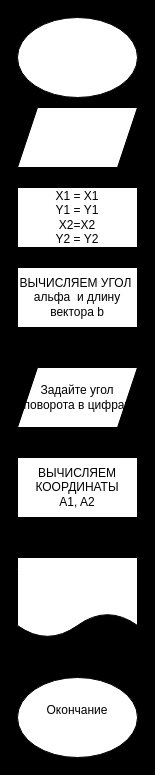
Image size: 155x775. Some labels were removed from this diagram. The shapes that lost their labels are listed below. From the top down, each one's box as (x1, y1, x2, y2) in pixels, then its label:
(16, 16, 138, 98): Начало
(16, 106, 138, 168): Введите координаты точки X1 и Y1 точки X2 иY2
(16, 556, 138, 638): Вывод координат на экран
